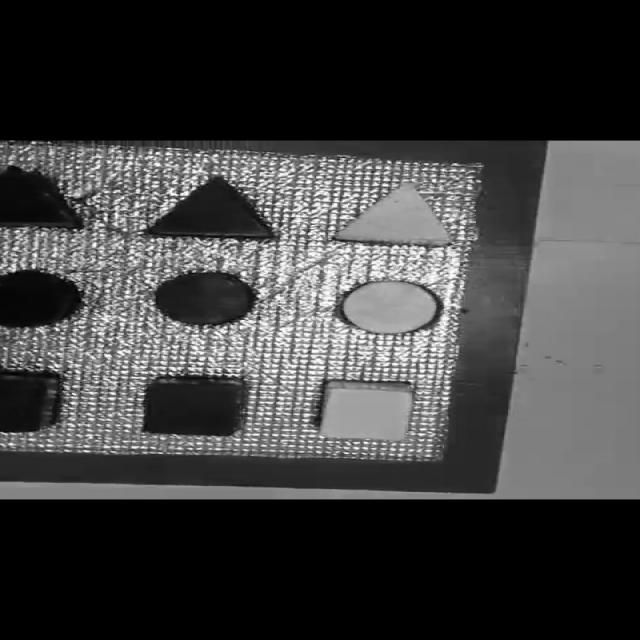bcircle: (0, 270, 81, 327)
bcube: (1, 372, 58, 432)
btriangle: (0, 164, 81, 230)
rcircle: (149, 268, 263, 328)
rcube: (141, 376, 244, 437)
rtriangle: (148, 178, 275, 240)
wb: (4, 142, 492, 461)
ycircle: (340, 280, 440, 334)
ycube: (316, 380, 419, 442)
ytriangle: (331, 182, 451, 247)
